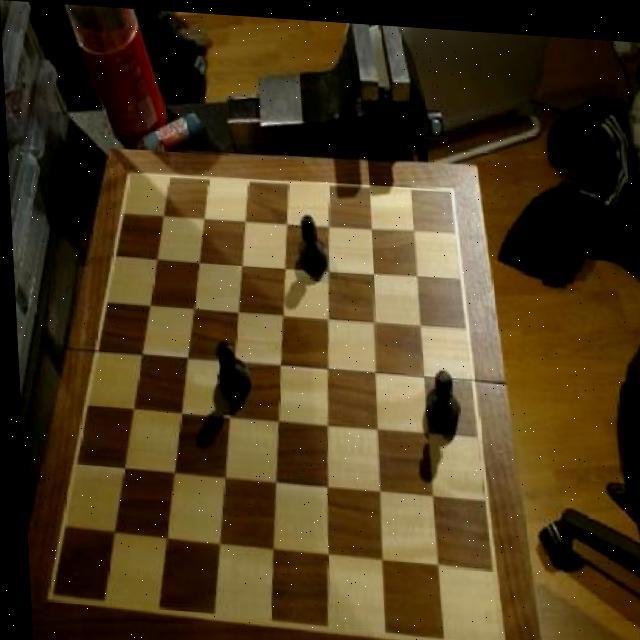black-knight: (418, 362, 457, 437), (209, 335, 248, 404), (292, 209, 329, 276)
